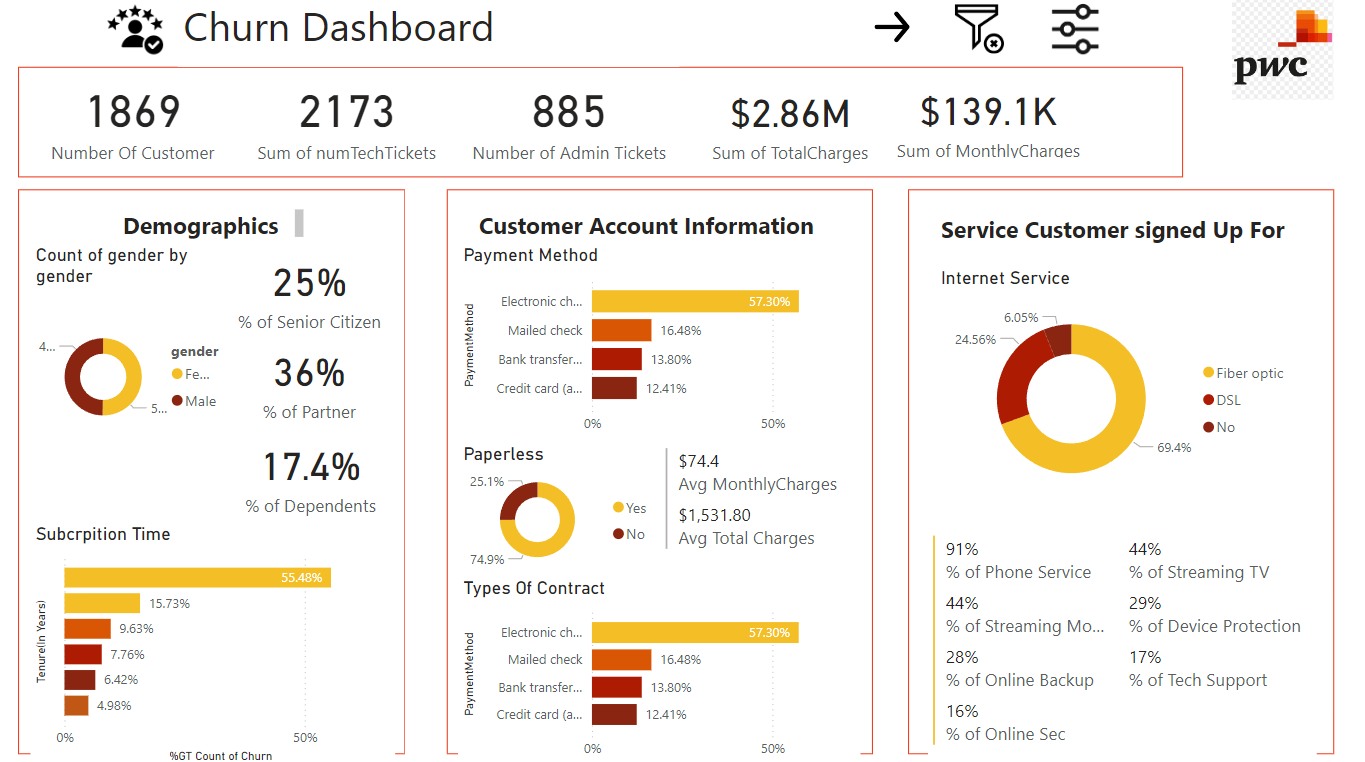

The dashboard page shown, as its layout file describes it:
{"tool":"powerbi","page":{"name":"Customer Analysis ","canvas":[1280,720],"ordinal":0},"visuals":[{"type":"textbox","title":"Title","box":[172.9,0,466.6,68.6],"z":0,"group":"g6"},{"type":"group","id":"g1","title":"Background","box":[23.7,68.2,1224.3,639.5],"z":0},{"type":"card","fields":{"Values":["CountNonNull(01 Churn-Dataset.customerID)"]},"box":[34.8,69.6,190.6,93.2],"z":0,"group":"g5"},{"type":"shape","box":[423,182.1,396.5,525.7],"z":0,"group":"g1"},{"type":"textbox","box":[432.7,196.2,350.6,50.1],"z":0,"group":"g3"},{"type":"textbox","box":[100,196.5,194.2,37.2],"z":0,"group":"g2"},{"type":"multiRowCard","fields":{"Values":["Churn.% of Phone Service","Churn.% of Streaming TV","Churn.% of Streaming Movies","Churn.% of Device","Churn.% of Online Backup","Churn.% of Tech Support","Churn.% of Online Sec"]},"box":[869.8,498.1,361.5,215.8],"z":0,"group":"g4"},{"type":"image","title":"LOGO","box":[1120,0,160,104.3],"z":1000,"group":"g6"},{"type":"shape","box":[23.7,68.2,1083.8,103],"z":1000,"group":"g1"},{"type":"card","fields":{"Values":["Sum(01 Churn-Dataset.numAdminTickets)"]},"box":[432.7,69.6,207.3,93.2],"z":1000,"group":"g5"},{"type":"group","id":"g2","title":"Demographic","box":[34.8,196.5,347.8,524.2],"z":1000},{"type":"donutChart","fields":{"Category":["01 Churn-Dataset.gender"],"Y":["CountNonNull(01 Churn-Dataset.gender)"]},"box":[34.8,233.7,190.6,208.7],"z":1000,"group":"g2"},{"type":"clusteredBarChart","title":"Payment Method","fields":{"Category":["Churn.PaymentMethod"],"Y":["CountNonNull(Churn.Churn)"]},"box":[432.6,233.7,374.4,184.9],"z":1000,"group":"g3"},{"type":"donutChart","title":"Internet Service ","fields":{"Category":["Churn.InternetService"],"Y":["CountNonNull(Churn.InternetService)"]},"box":[876.8,251.5,337.9,228.4],"z":1000,"group":"g4"},{"type":"image","box":[100.3,0,65.4,67.6],"z":2000,"group":"g6"},{"type":"card","fields":{"Values":["Sum(01 Churn-Dataset.numTechTickets)"]},"box":[225.4,69.6,207.3,93.2],"z":2000,"group":"g5"},{"type":"shape","box":[23.7,182.1,360.3,525.7],"z":2000,"group":"g1"},{"type":"group","id":"g3","title":"Customer Acc","box":[432.6,196.2,374.4,524.5],"z":2000},{"type":"textbox","box":[877,196.5,354.5,43.3],"z":2000,"group":"g4"},{"type":"card","fields":{"Values":["Churn.% of Partner"]},"box":[225.4,315.8,137.7,89],"z":2000,"group":"g2"},{"type":"donutChart","title":" Paperless ","fields":{"Category":["Churn.PaperlessBilling"],"Y":["CountNonNull(Churn.PaperlessBilling)"]},"box":[432.7,418.8,189.2,123.8],"z":2000,"group":"g3"},{"type":"card","fields":{"Values":["Sum(01 Churn-Dataset.TotalCharges)"]},"box":[635.8,73.8,211.5,90.4],"z":3000,"group":"g5"},{"type":"shape","box":[851.5,182.1,396.5,525.7],"z":3000,"group":"g1"},{"type":"group","id":"g4","title":"Service Cusotmer","box":[869.8,196.5,361.6,517.4],"z":3000},{"type":"card","fields":{"Values":["Churn.% of Senior Citizen"]},"box":[207.3,230.9,175.3,91.8],"z":3000,"group":"g2"},{"type":"multiRowCard","fields":{"Values":["Avg(Churn.MonthlyCharges)","Avg(Churn.TotalCharges)"]},"box":[620.6,418.8,186.4,123.8],"z":3000,"group":"g3"},{"type":"group","id":"g5","title":"Cards","box":[34.8,69.6,997.6,94.6],"z":4000},{"type":"card","fields":{"Values":["Sum(01 Churn-Dataset.MonthlyCharges)"]},"box":[819.5,76.6,212.9,82.1],"z":4000,"group":"g5"},{"type":"card","fields":{"Values":["Churn.% of Dependents"]},"box":[215.7,404.9,158.6,87.7],"z":4000,"group":"g2"},{"type":"clusteredBarChart","title":"Types Of Contract ","fields":{"Category":["Churn.PaymentMethod"],"Y":["CountNonNull(Churn.Churn)"]},"box":[432.7,542.6,374.3,178.1],"z":4000,"group":"g3"},{"type":"clusteredBarChart","title":"Subcrpition Time","fields":{"Y":["CountNonNull(Churn.Churn)"],"Category":["Churn.Tenure(In Years)"]},"box":[34.8,492.5,339.5,228.2],"z":5000,"group":"g2"},{"type":"image","title":"Setting","box":[869.8,1.2,87.2,67.4],"z":9000},{"type":"group","id":"g6","title":"Title","box":[100.3,0,1179.7,104.3],"z":10000},{"type":"image","title":"Clear Filter ","box":[955.8,7.2,65.1,54.9],"z":11000},{"type":"image","box":[802.5,2.5,67.5,58.8],"z":12000}]}

Visuals, with their boxes in screenshot pixels (x1, y1, x2, y2), scaled from the page's 1280x720 canvas onto the 1365x762 screenshot:
"Title" textbox: [left=184, top=0, right=682, bottom=73]
"Background" group: [left=25, top=72, right=1331, bottom=749]
card - CountNonNull(01 Churn-Dataset.customerID): [left=37, top=74, right=240, bottom=172]
shape: [left=451, top=193, right=874, bottom=749]
textbox: [left=461, top=208, right=835, bottom=261]
textbox: [left=107, top=208, right=314, bottom=247]
multiRowCard - Churn.% of Phone Service x Churn.% of Streaming TV: [left=928, top=527, right=1313, bottom=756]
"LOGO" image: [left=1194, top=0, right=1364, bottom=110]
shape: [left=25, top=72, right=1181, bottom=181]
card - Sum(01 Churn-Dataset.numAdminTickets): [left=461, top=74, right=682, bottom=172]
"Demographic" group: [left=37, top=208, right=408, bottom=761]
donutChart - 01 Churn-Dataset.gender x CountNonNull(01 Churn-Dataset.gender): [left=37, top=247, right=240, bottom=468]
"Payment Method" clusteredBarChart: [left=461, top=247, right=861, bottom=443]
"Internet Service " donutChart: [left=935, top=266, right=1295, bottom=508]
image: [left=107, top=0, right=177, bottom=72]
card - Sum(01 Churn-Dataset.numTechTickets): [left=240, top=74, right=461, bottom=172]
shape: [left=25, top=193, right=410, bottom=749]
"Customer Acc" group: [left=461, top=208, right=861, bottom=761]
textbox: [left=935, top=208, right=1313, bottom=254]
card - Churn.% of Partner: [left=240, top=334, right=387, bottom=428]
" Paperless " donutChart: [left=461, top=443, right=663, bottom=574]
card - Sum(01 Churn-Dataset.TotalCharges): [left=678, top=78, right=904, bottom=174]
shape: [left=908, top=193, right=1331, bottom=749]
"Service Cusotmer" group: [left=928, top=208, right=1313, bottom=756]
card - Churn.% of Senior Citizen: [left=221, top=244, right=408, bottom=342]
multiRowCard - Avg(Churn.MonthlyCharges) x Avg(Churn.TotalCharges): [left=662, top=443, right=861, bottom=574]
"Cards" group: [left=37, top=74, right=1101, bottom=174]
card - Sum(01 Churn-Dataset.MonthlyCharges): [left=874, top=81, right=1101, bottom=168]
card - Churn.% of Dependents: [left=230, top=429, right=399, bottom=521]
"Types Of Contract " clusteredBarChart: [left=461, top=574, right=861, bottom=761]
"Subcrpition Time" clusteredBarChart: [left=37, top=521, right=399, bottom=761]
"Setting" image: [left=928, top=1, right=1021, bottom=73]
"Title" group: [left=107, top=0, right=1364, bottom=110]
"Clear Filter " image: [left=1019, top=8, right=1089, bottom=66]
image: [left=856, top=3, right=928, bottom=65]
